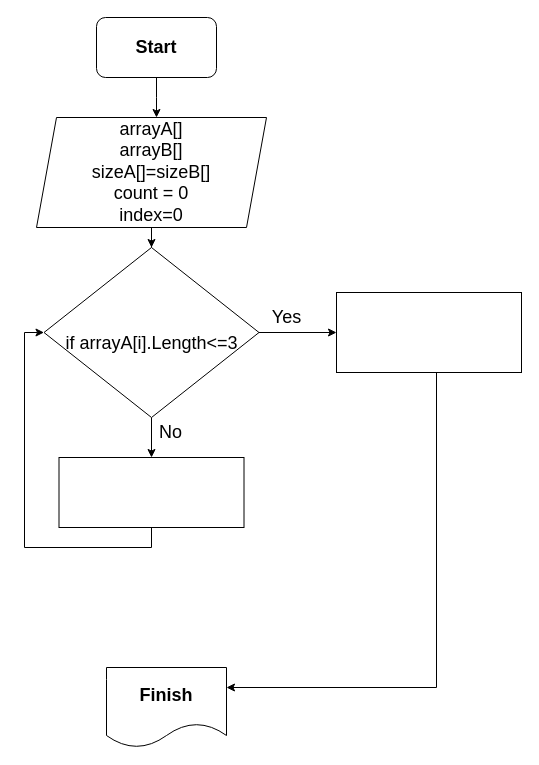
This 539x765 diagram has some shape labels left out. The shapes that lost their labels are listed below. From the top down, each one's centre as x and y in pixels, then its label:
pixel 429 332: arrayB[count]
pixel 151 492: index++ count++
